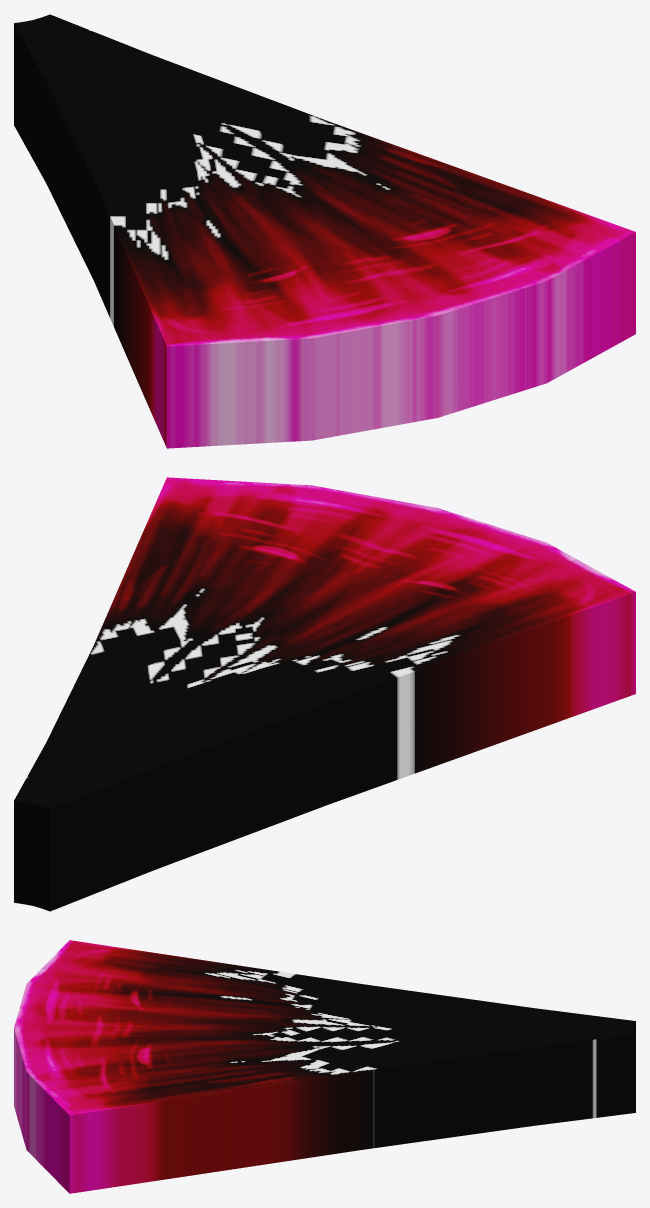
Rendered from Bia_AttackSuper_Collider.fbx.
3 renders of one model, top to bottom at view 1: azimuth 30°, elevation 25°; view 2: azimuth 150°, elevation 25°; view 3: azimuth 270°, elevation 25°, orthographic. The views are drawn at different scales.
Visible parts, largest first — view 1: Bia_Attack_Model.001; view 2: Bia_Attack_Model.001; view 3: Bia_Attack_Model.001.
Part boxes in pixels (<box>): Bia_Attack_Model.001: <box>14,14,635,448</box>; Bia_Attack_Model.001: <box>14,477,635,911</box>; Bia_Attack_Model.001: <box>14,940,635,1193</box>.
Bounding box in the file's own units: 409 × 85.1 × 613.
1 material, 1 textured.
